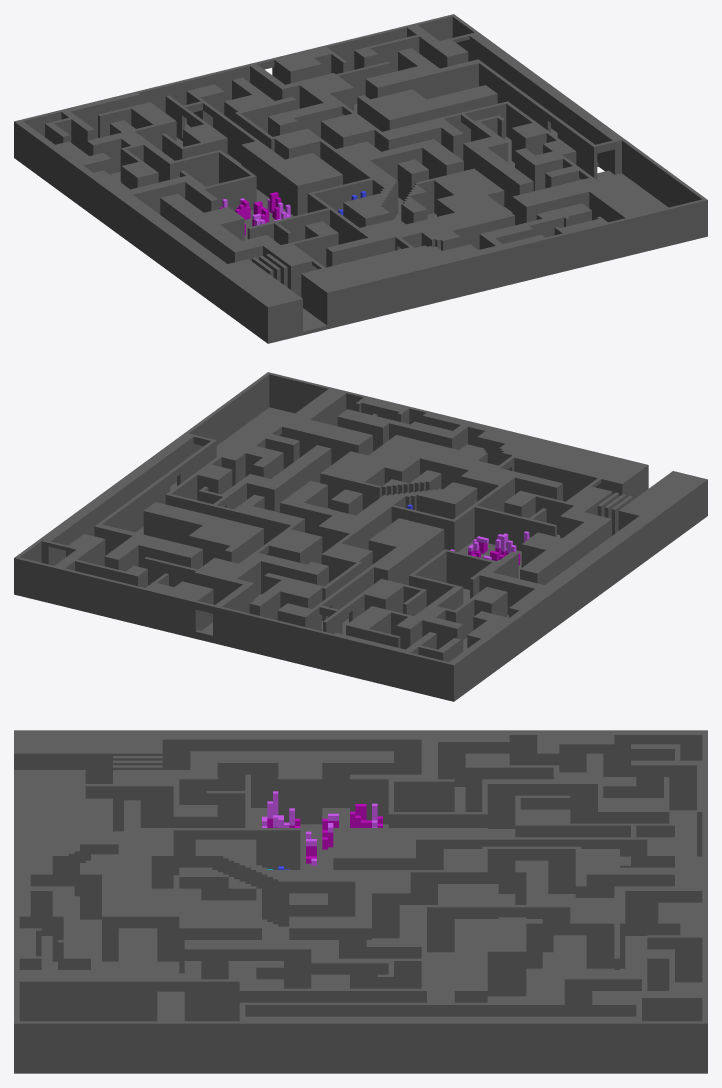
Rendered from Maze.obj.
3 views of the same model, one above another, from view 1: azimuth 30°, elevation 25°; view 2: azimuth 150°, elevation 25°; view 3: azimuth 270°, elevation 25° (orthographic). The views are drawn at different scales.
Parts seen in each view (by area): view 1: Maze; view 2: Maze; view 3: Maze.
Boxes of the visible parts, left/top/right/bottom form: Maze: left=14, top=14, right=707, bottom=343; Maze: left=14, top=372, right=707, bottom=701; Maze: left=14, top=730, right=707, bottom=1073.
Bounding box in the file's own units: 126 × 10 × 126.
1 material, 1 textured.
